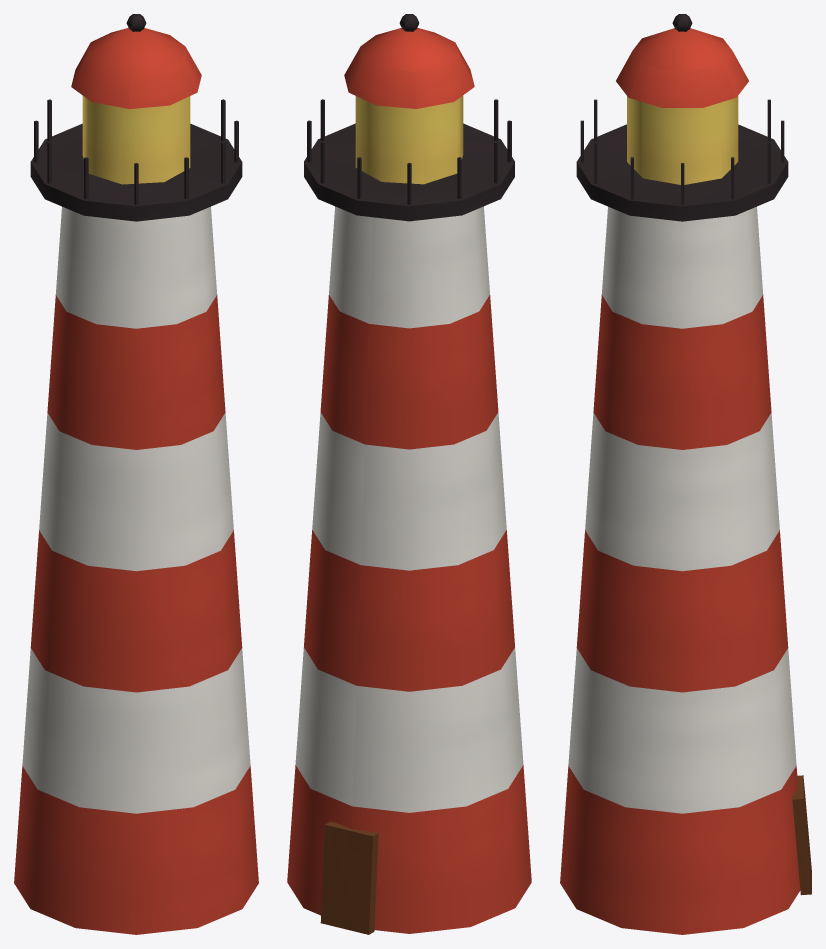
File: env_lighthouse.glb
The picture shows the model from 3 angles, left to right: view 1: azimuth 30°, elevation 25°; view 2: azimuth 150°, elevation 25°; view 3: azimuth 270°, elevation 25°; orthographic projection.
Parts seen in each view (by area): view 1: env_lighthouse; view 2: env_lighthouse; view 3: env_lighthouse.
Part boxes in pixels (bbox=[...]): env_lighthouse: bbox=[14, 14, 258, 934]; env_lighthouse: bbox=[287, 14, 531, 934]; env_lighthouse: bbox=[560, 14, 811, 934].
Bounding box in the file's own units: 4.4 × 17.23 × 4.53.
1 material, 1 textured.
